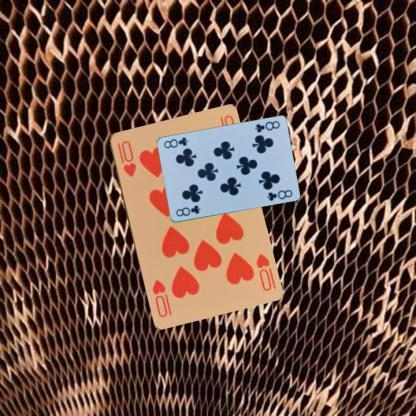10h: (114, 138, 137, 178), (253, 250, 273, 292)
8c: (252, 118, 281, 134), (173, 203, 202, 218)
